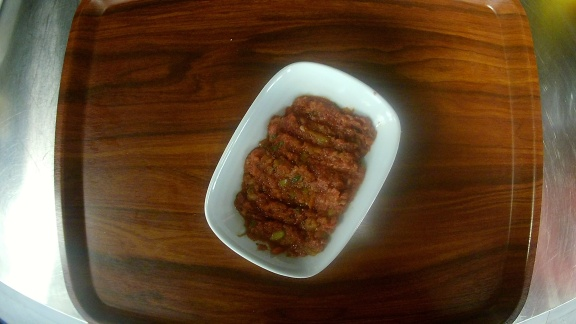acilimeze: (202, 60, 403, 279)
